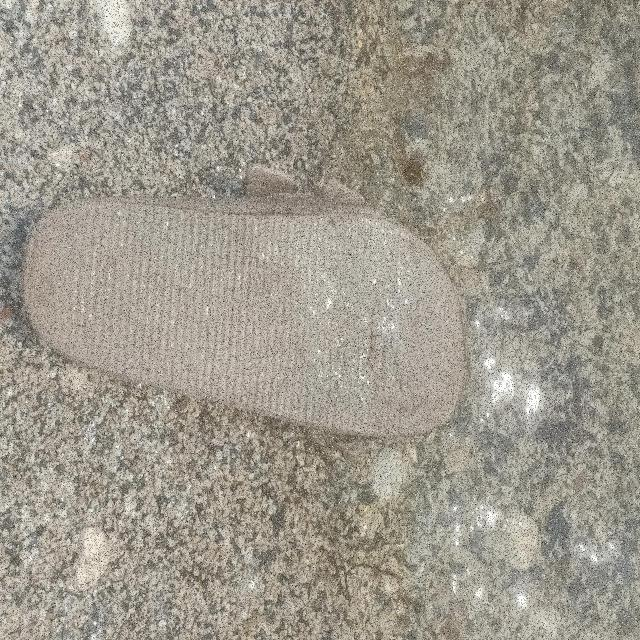rubber_waste: (20, 163, 466, 442)
